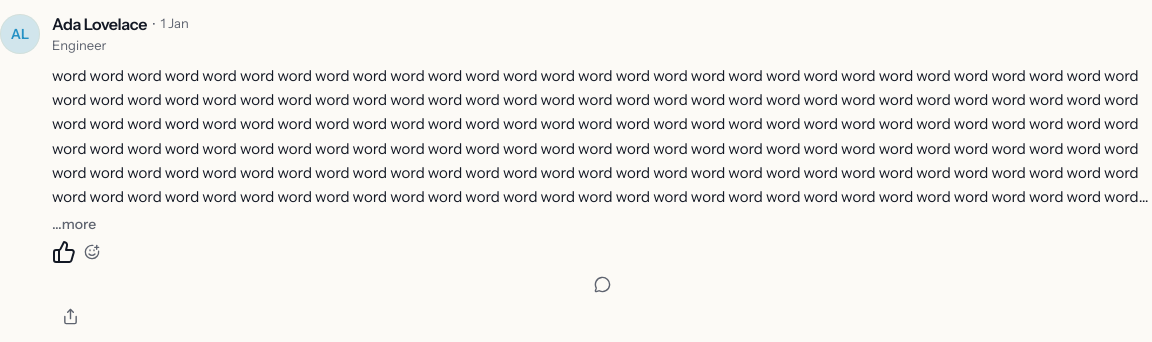
Test: PostCard › expands a long post with …more
Click the button "…more". click: (74, 224)
box: [52,214,96,234]
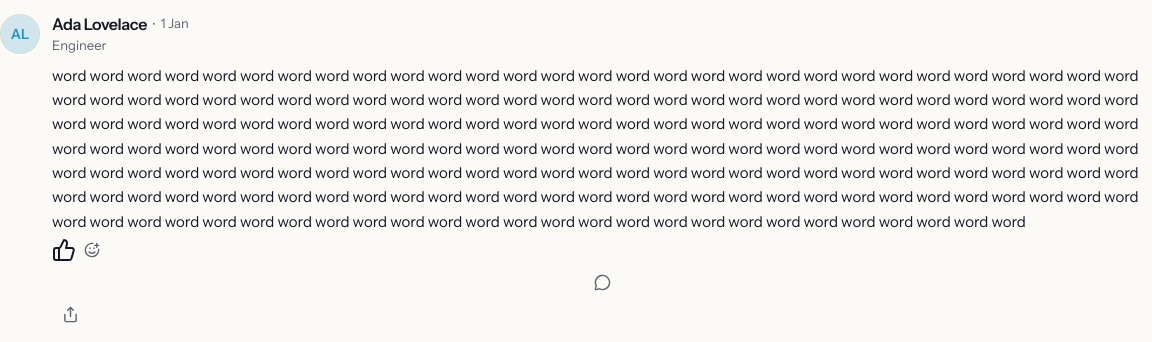
expect the button "…more" is gone: met
